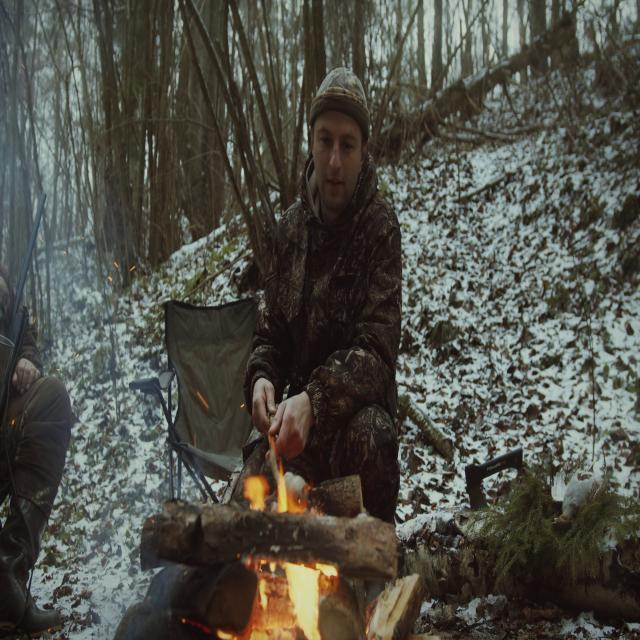Fire: (240, 467, 332, 640)
